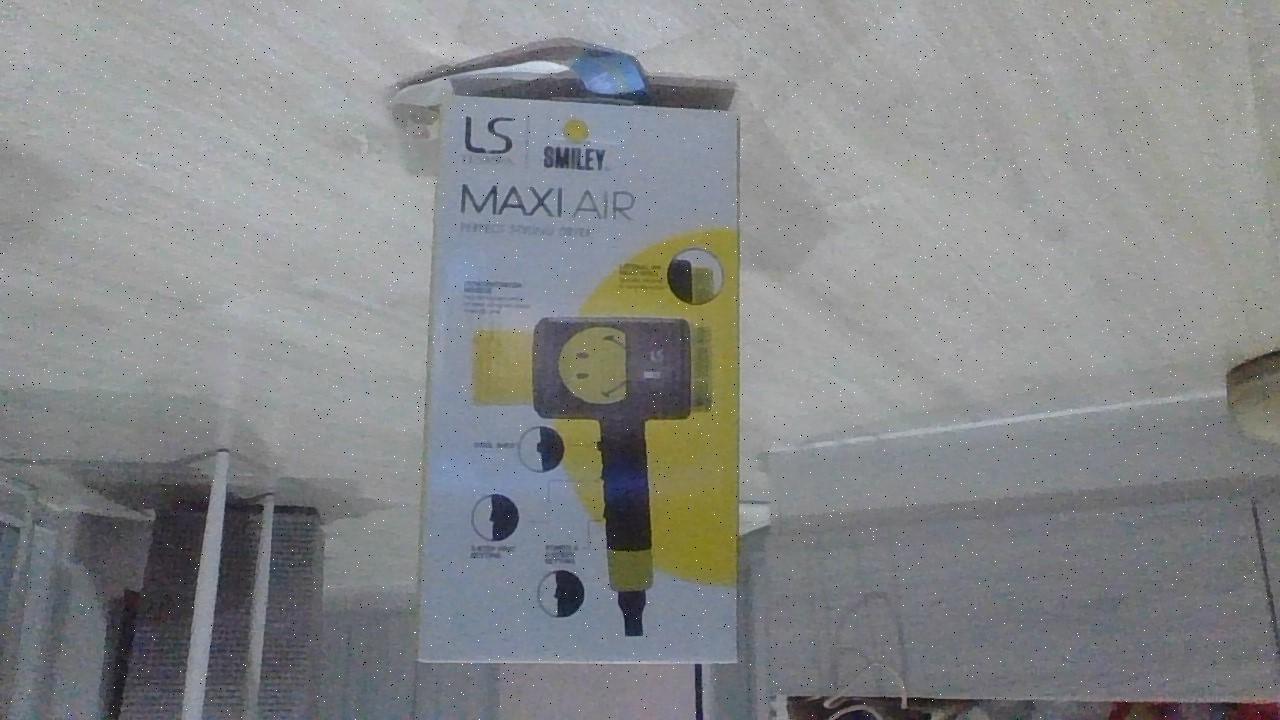IRON: (412, 82, 747, 669)
